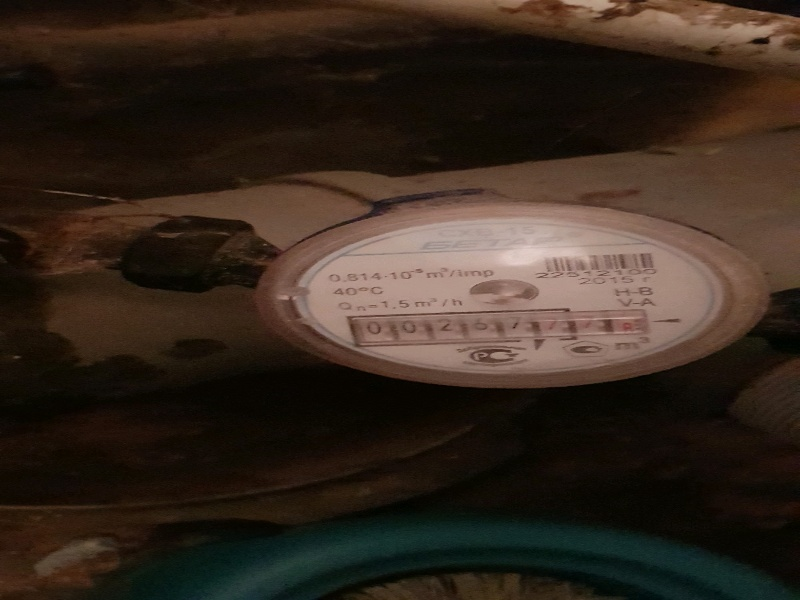meter: (347, 308, 641, 340)
